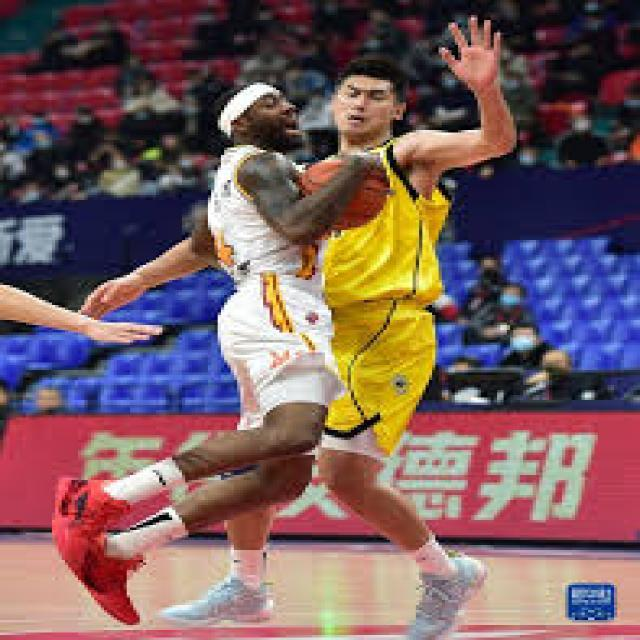rim: (312, 160, 384, 225)
